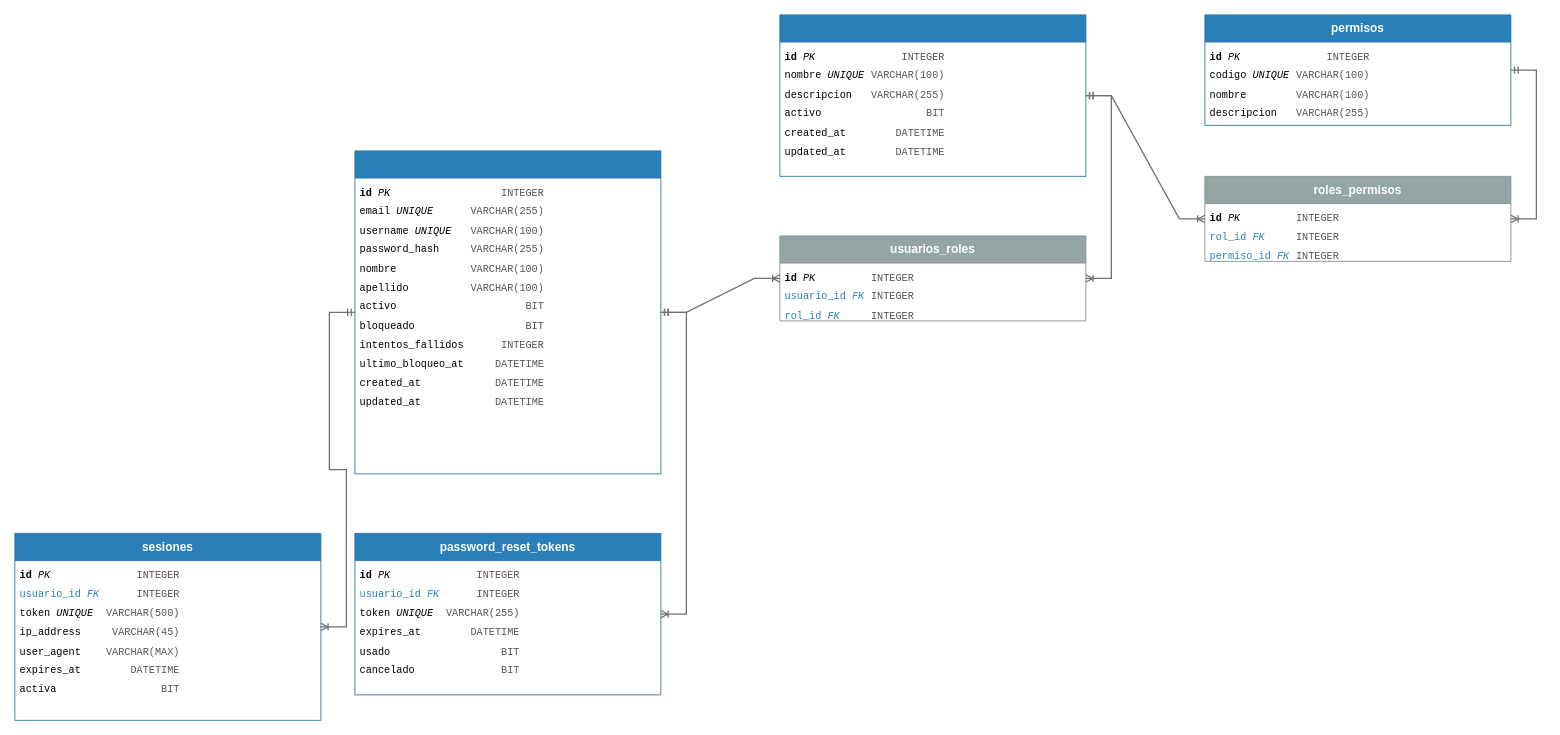
Image size: 1560x735. Some labels were removed from this diagram. Here are the shapes that lost their labels. From the top down, the box of each, then its label:
(779, 14, 1086, 176): roles
(354, 150, 661, 474): usuarios
